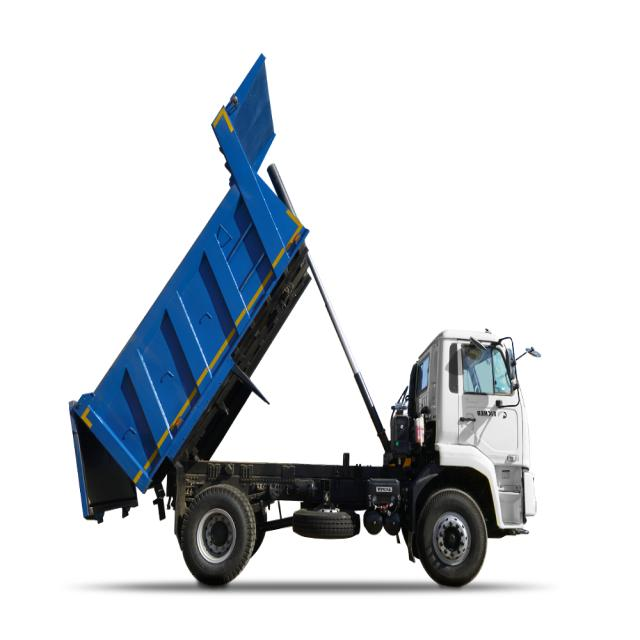truck: (70, 57, 535, 585)
